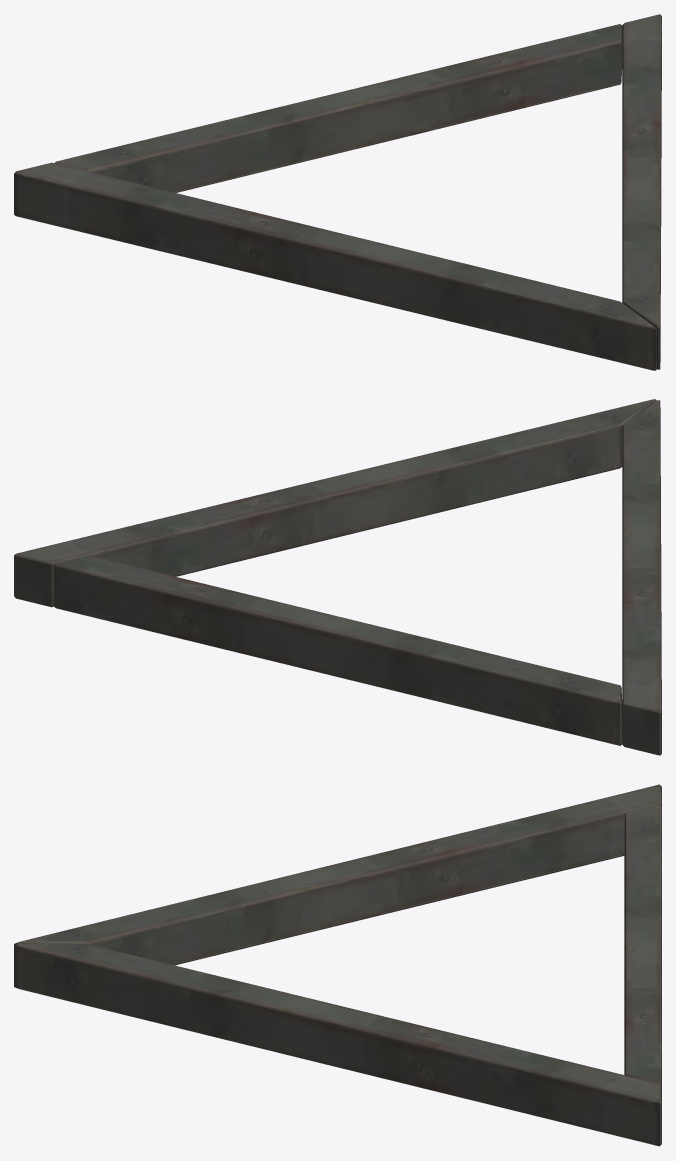
Rendered from floor.triangle.spacestation.frame.glb.
The picture shows the model from 3 angles, top to bottom: view 1: azimuth 30°, elevation 25°; view 2: azimuth 150°, elevation 25°; view 3: azimuth 270°, elevation 25°; orthographic projection.
Parts seen in each view (by area): view 1: model; view 2: model; view 3: model.
Part boxes in pixels (left/top/right/bottom): model: left=14, top=14, right=661, bottom=370; model: left=14, top=399, right=661, bottom=755; model: left=14, top=784, right=661, bottom=1146.
Bounding box in the file's own units: 3.01 × 0.1999 × 2.59.
1 material, 1 textured.
